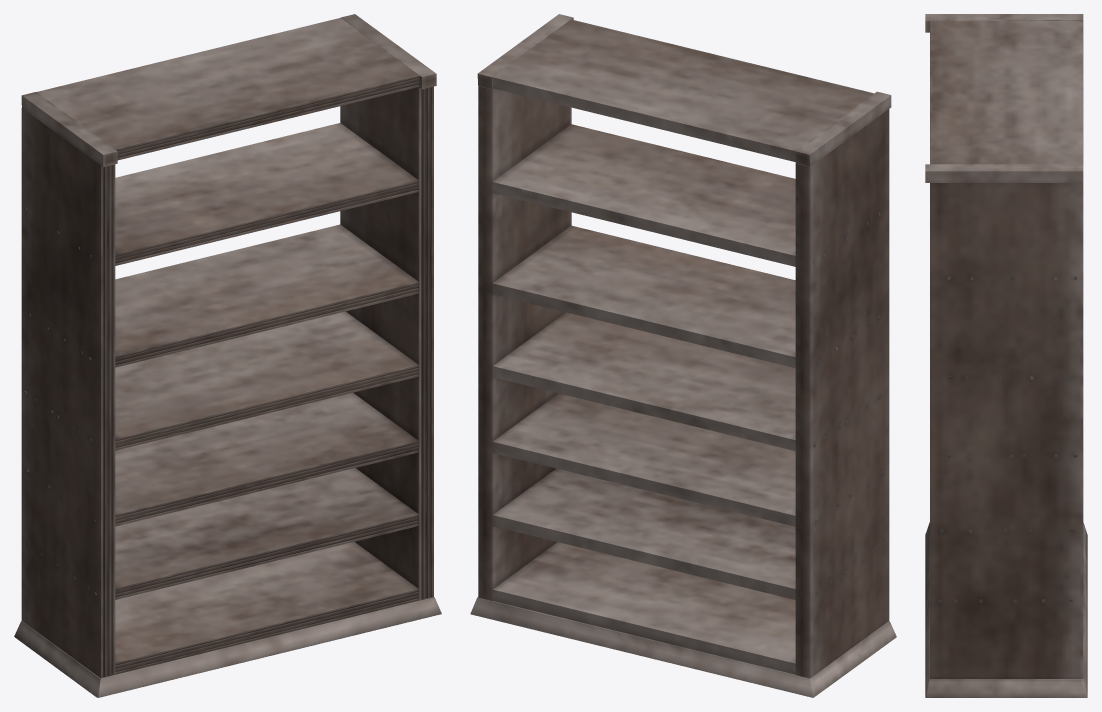
The model's file is wooden_bookshelf_worn.fbx.
3 renders of one model, left to right at view 1: azimuth 30°, elevation 25°; view 2: azimuth 150°, elevation 25°; view 3: azimuth 270°, elevation 25°, orthographic. The views are drawn at different scales.
Visible parts, largest first — view 1: wooden_bookshelf_worn; view 2: wooden_bookshelf_worn; view 3: wooden_bookshelf_worn.
Boxes of the visible parts, x1,y1,x2,y2 form: wooden_bookshelf_worn: (14,14,441,697); wooden_bookshelf_worn: (470,14,896,697); wooden_bookshelf_worn: (925,14,1087,697).
Bounding box in the file's own units: 1.37 × 2.06 × 0.58.
